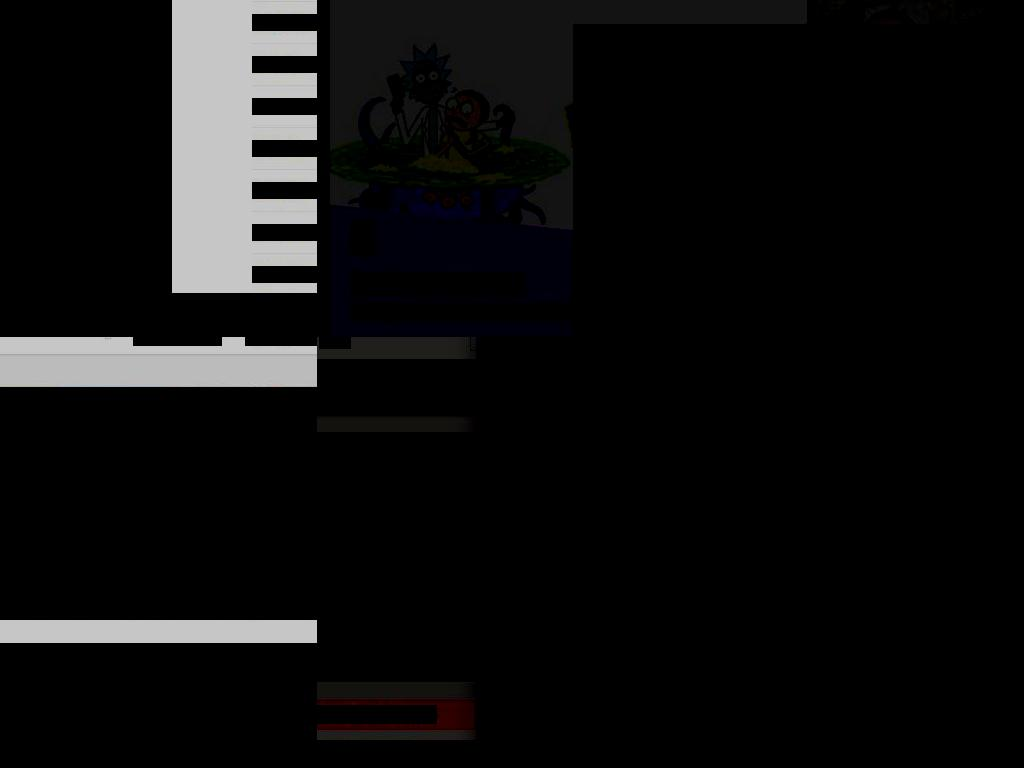button: (476, 337, 1024, 768), (0, 643, 317, 768), (417, 359, 549, 414), (0, 0, 172, 40), (0, 40, 172, 80), (0, 80, 172, 120), (0, 120, 172, 160), (0, 160, 172, 200), (0, 200, 172, 240), (0, 240, 172, 280), (0, 280, 172, 320), (317, 740, 521, 768), (0, 320, 172, 337), (819, 324, 1019, 337), (605, 324, 804, 337), (831, 265, 936, 289), (252, 14, 317, 31), (252, 56, 317, 73), (252, 98, 317, 115), (252, 140, 317, 157), (252, 182, 317, 199), (252, 224, 317, 241), (252, 266, 317, 283), (252, 308, 317, 325), (753, 337, 796, 355), (795, 337, 838, 355), (879, 337, 922, 355), (921, 337, 964, 355), (837, 337, 879, 355)
field: (479, 337, 664, 348), (675, 337, 691, 342)
heading: (0, 643, 317, 768), (837, 272, 1024, 297), (350, 272, 526, 297), (351, 705, 437, 724), (317, 705, 351, 724)
iframe: (317, 432, 1024, 682), (0, 293, 317, 337)
image: (476, 337, 1024, 768), (0, 387, 317, 620), (763, 58, 860, 154), (317, 740, 501, 768), (317, 372, 417, 401), (350, 220, 376, 257), (837, 220, 863, 257), (807, 337, 825, 342), (850, 337, 866, 342), (934, 337, 950, 342), (893, 337, 907, 342), (770, 337, 779, 342)
link: (937, 752, 1024, 768), (133, 337, 222, 346), (245, 337, 317, 346)
text: (605, 228, 1009, 284), (605, 172, 1019, 200), (350, 302, 681, 322), (837, 302, 1024, 322), (0, 11, 120, 29), (0, 51, 120, 69), (0, 91, 120, 109), (0, 131, 120, 149), (0, 171, 120, 189), (0, 211, 120, 229), (0, 251, 120, 269), (0, 291, 120, 309), (472, 371, 534, 402), (317, 359, 342, 409), (432, 371, 462, 402), (773, 376, 817, 391), (319, 337, 351, 349)
